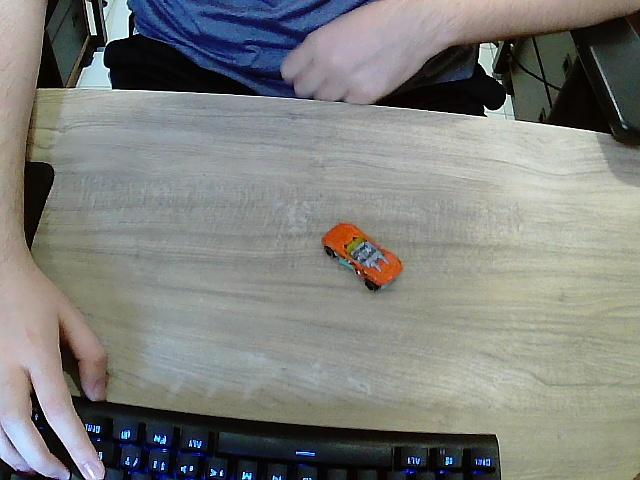Carro: (322, 224, 404, 293)
